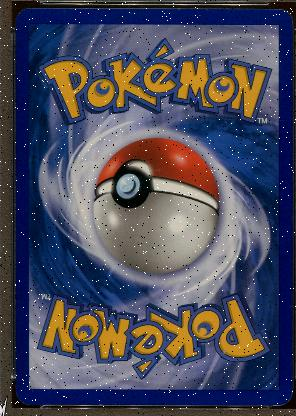Card: (15, 6, 293, 406)
Corner Wear: (270, 386, 292, 405), (14, 391, 31, 405), (14, 7, 27, 19)
Edge Wear: (65, 403, 208, 405), (170, 6, 209, 10)
Scratch: (272, 119, 287, 121)
